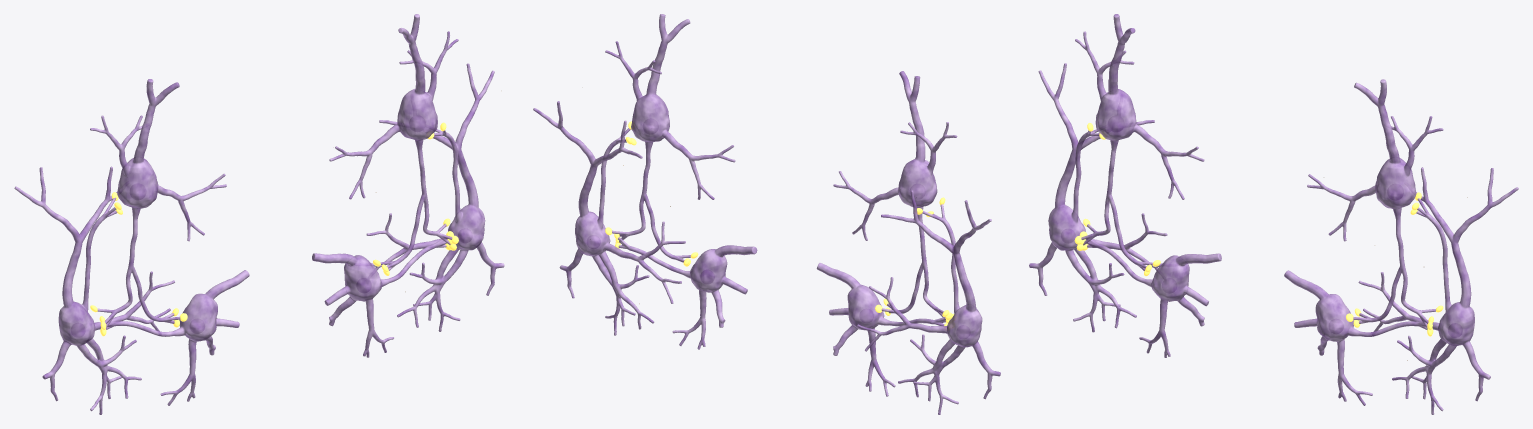
The model's file is alzheimer_neurones.glb.
3 views of the same model, side by side, from view 1: azimuth 30°, elevation 25°; view 2: azimuth 150°, elevation 25°; view 3: azimuth 330°, elevation 25° (orthographic). The views are drawn at different scales.
Visible parts, largest first — view 1: Neurones_Sain, Neurones_Altere; view 2: Neurones_Altere, Neurones_Sain; view 3: Neurones_Altere, Neurones_Sain.
Part boxes in pixels (x1,y1,x2,y2): Neurones_Sain: [14, 79, 249, 414]; Neurones_Altere: [312, 14, 504, 357]; Neurones_Altere: [533, 14, 757, 349]; Neurones_Sain: [816, 71, 1000, 414]; Neurones_Altere: [1284, 79, 1518, 414]; Neurones_Sain: [1029, 14, 1221, 357].
Size of the model in its own units: 0.9281 by 0.6223 by 0.1248.
